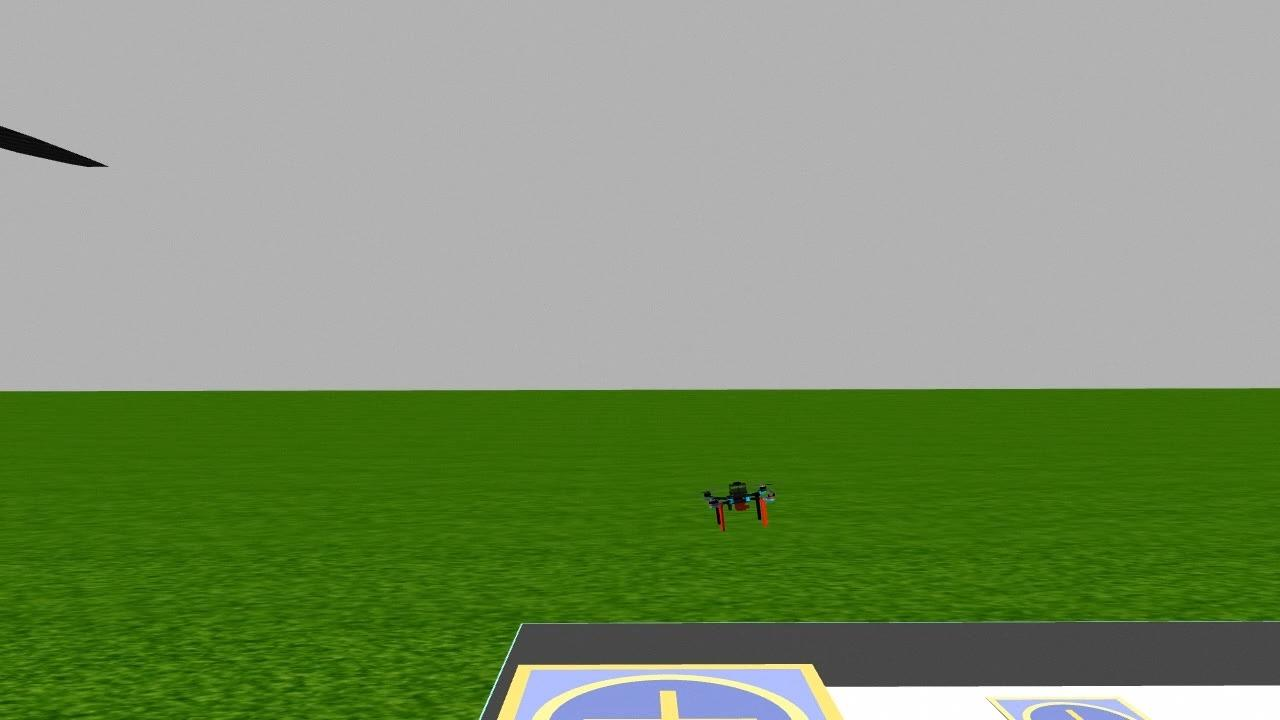UAV: (693, 460, 789, 541)
